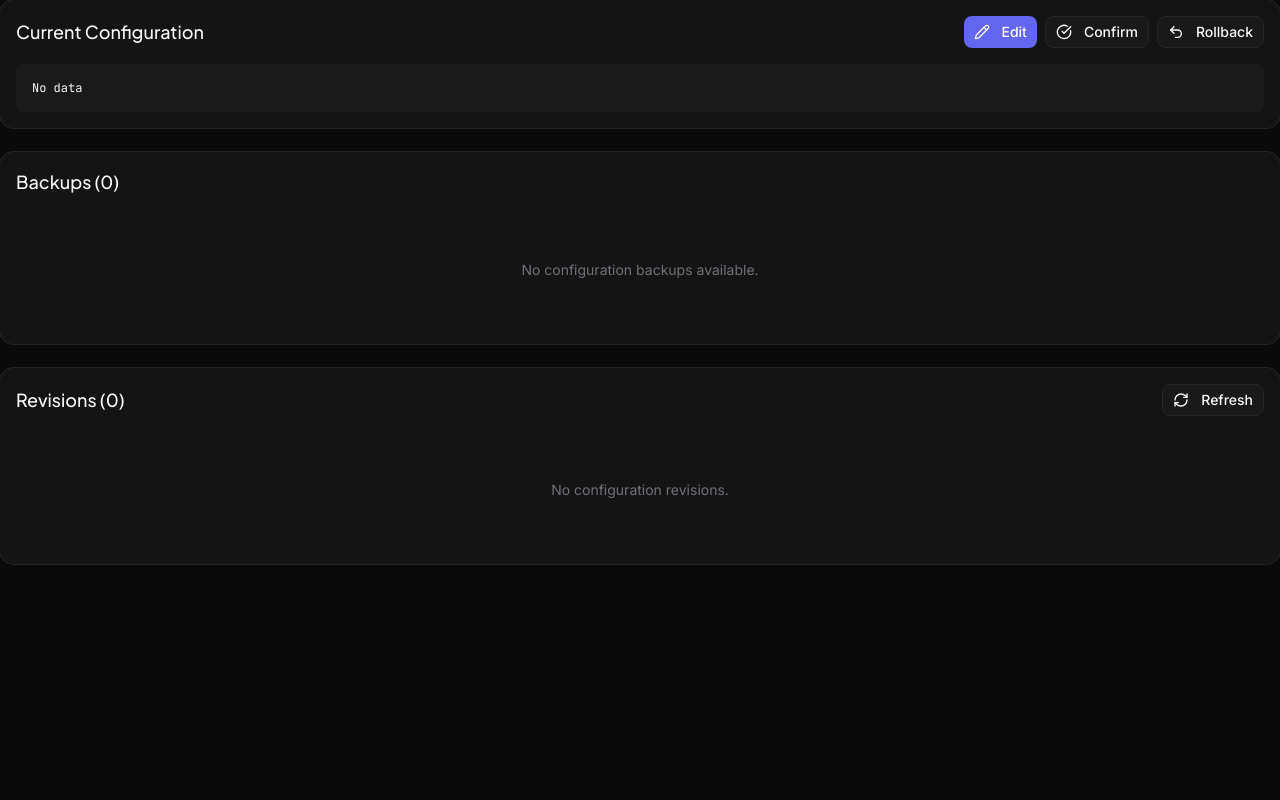
it: ConfigPage › edits with fallbacks when content/path missing
This screenshot has width=1280, height=800.
Click the button "Edit" at (1000, 32), box x1=964 y1=16 x2=1037 y2=48
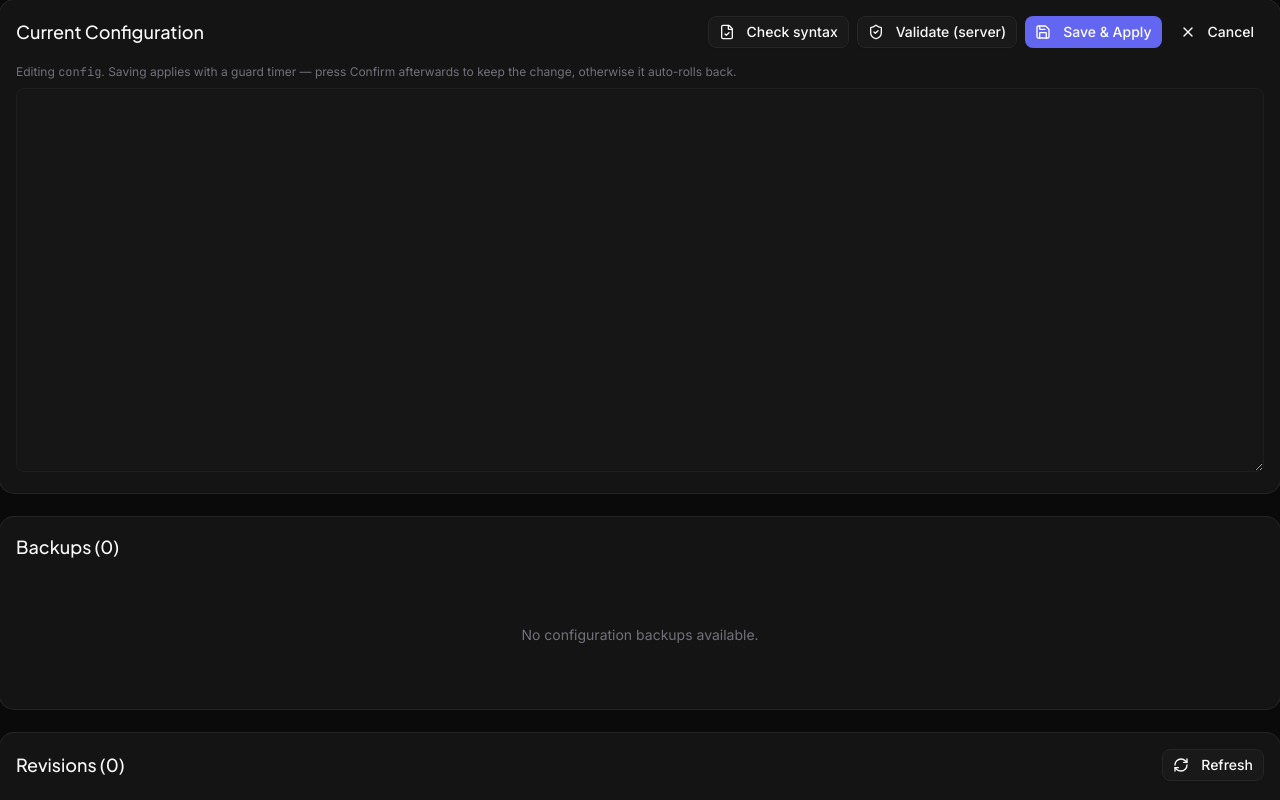
Now the text box named "Configuration content" is empty, box x1=16 y1=88 x2=1264 y2=472
Now the text "config" is shown, box x1=58 y1=64 x2=101 y2=80
